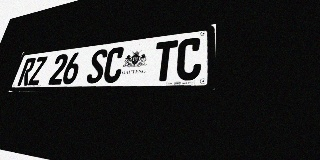2: (48, 53, 69, 85)
6: (61, 52, 83, 84)
C: (175, 37, 203, 81), (102, 46, 126, 83)
R: (17, 57, 37, 86)
S: (85, 49, 109, 84)
T: (152, 40, 178, 82)
Z: (28, 56, 48, 85)
